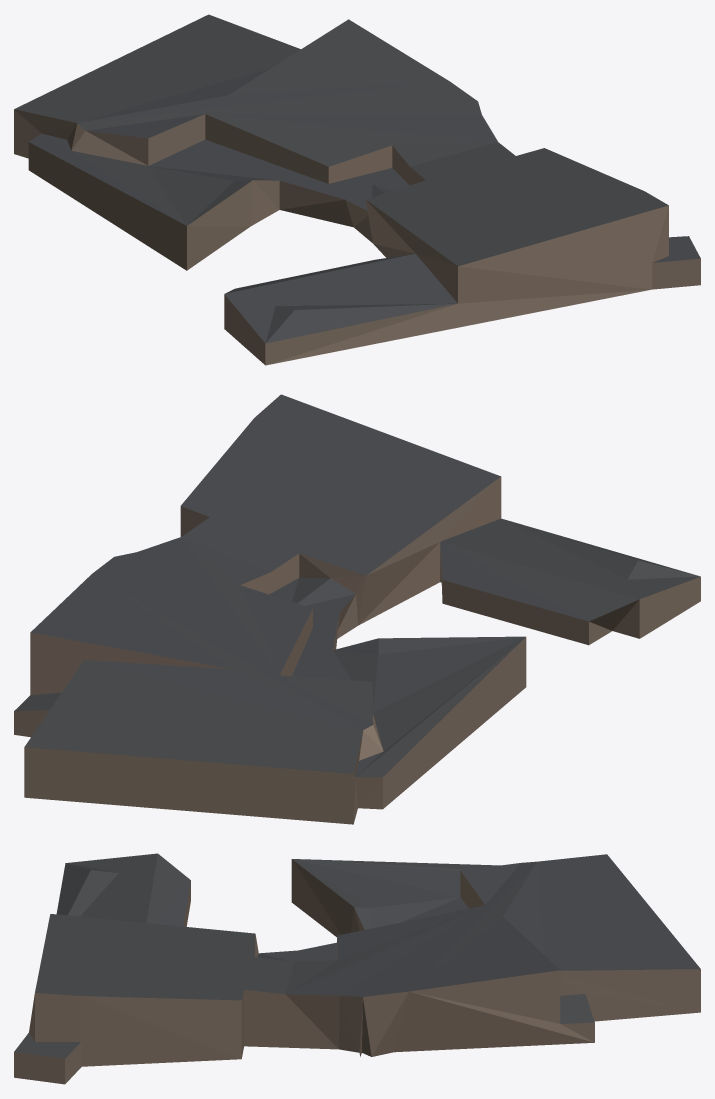
Rendered from victoriabad.lod2.glb.
The picture shows the model from 3 angles, top to bottom: view 1: azimuth 30°, elevation 25°; view 2: azimuth 150°, elevation 25°; view 3: azimuth 270°, elevation 25°; orthographic projection. The views are drawn at different scales.
Parts seen in each view (by area): view 1: lod2; view 2: lod2; view 3: lod2.
Part boxes in pixels (left/top/right/bottom): lod2: left=14, top=14, right=700, bottom=365; lod2: left=14, top=394, right=700, bottom=824; lod2: left=14, top=853, right=700, bottom=1084.
Size of the model in its own units: 56.33 by 9.81 by 81.72.
